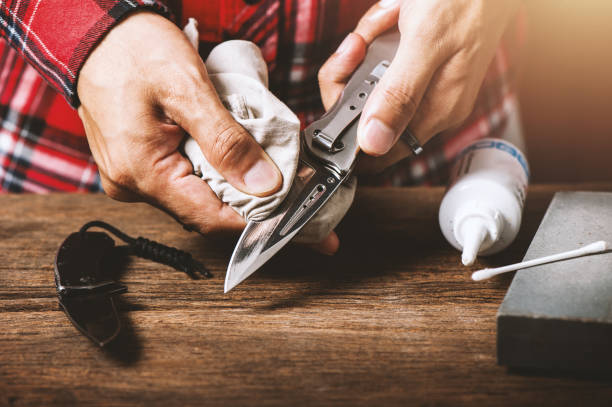knife: (221, 27, 401, 296)
